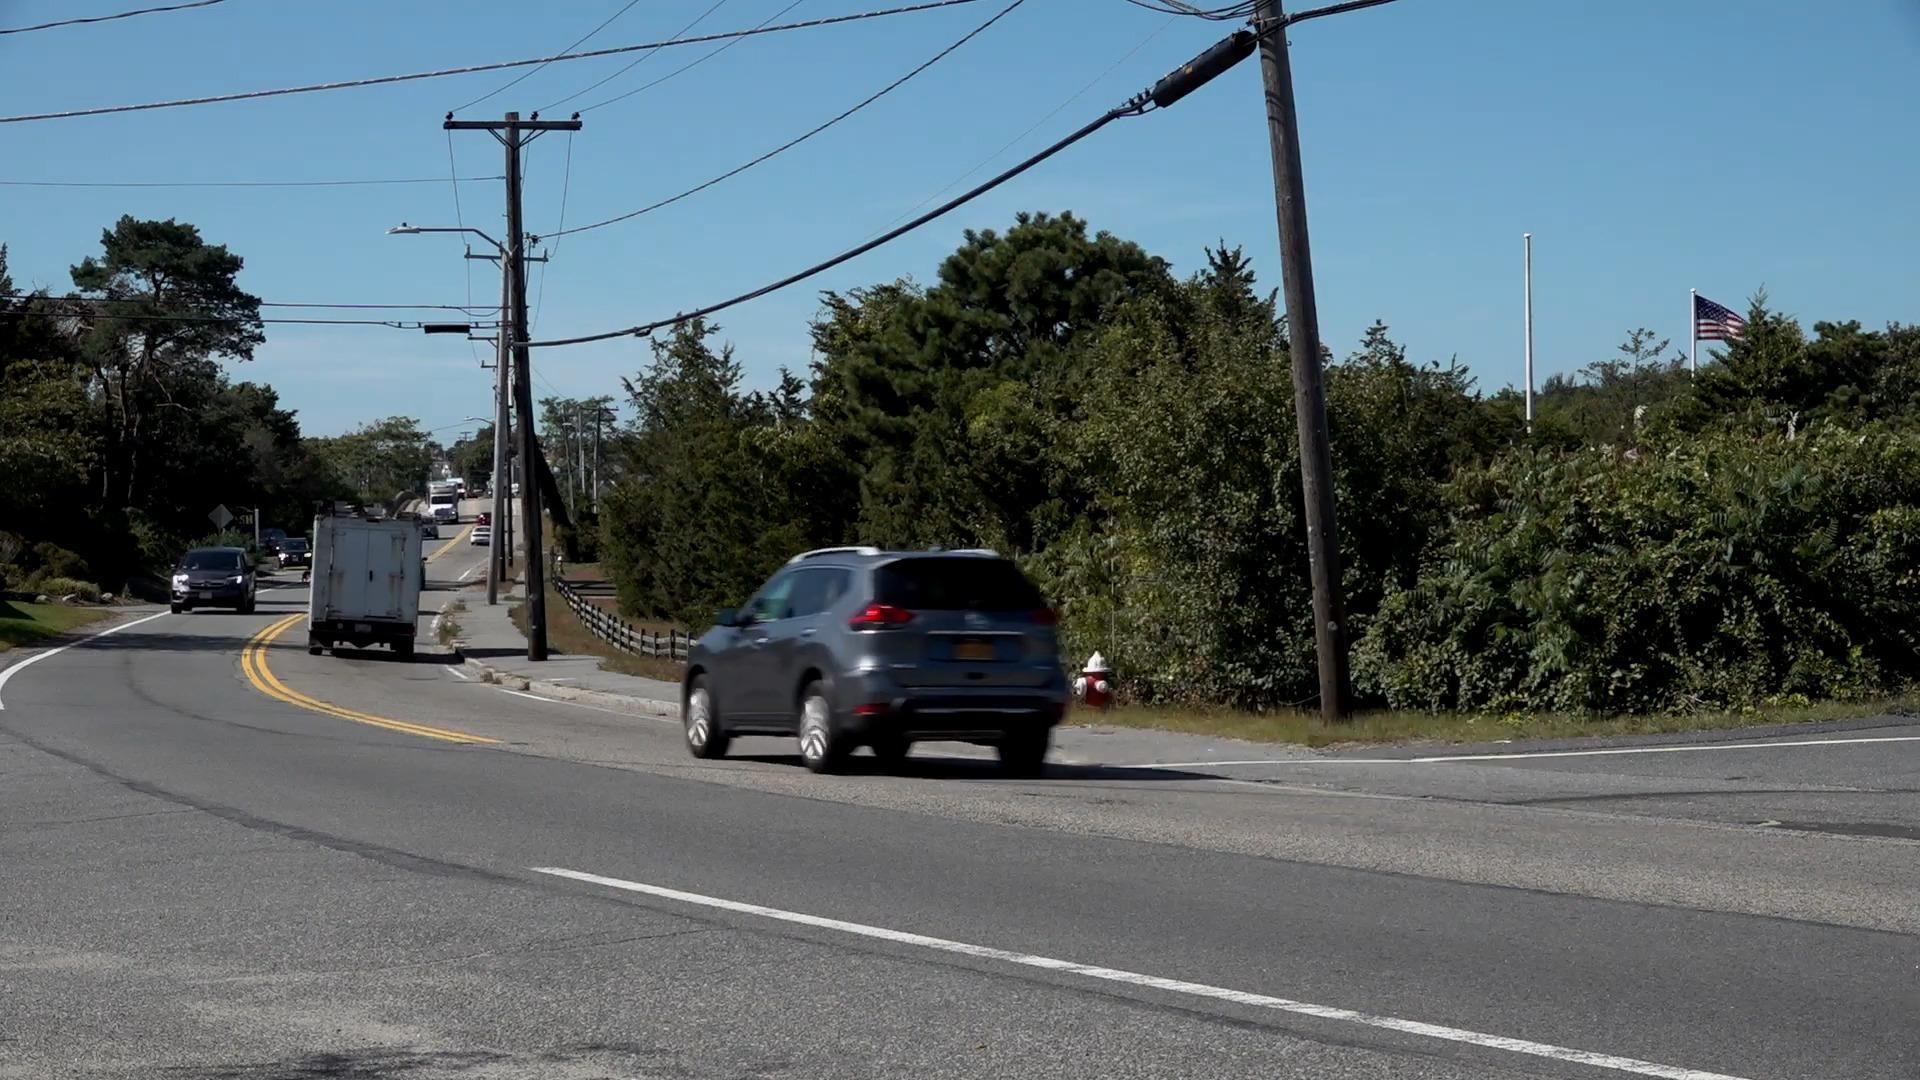suv: (681, 538, 1072, 775), (164, 534, 265, 615)
truck: (304, 508, 425, 651)
